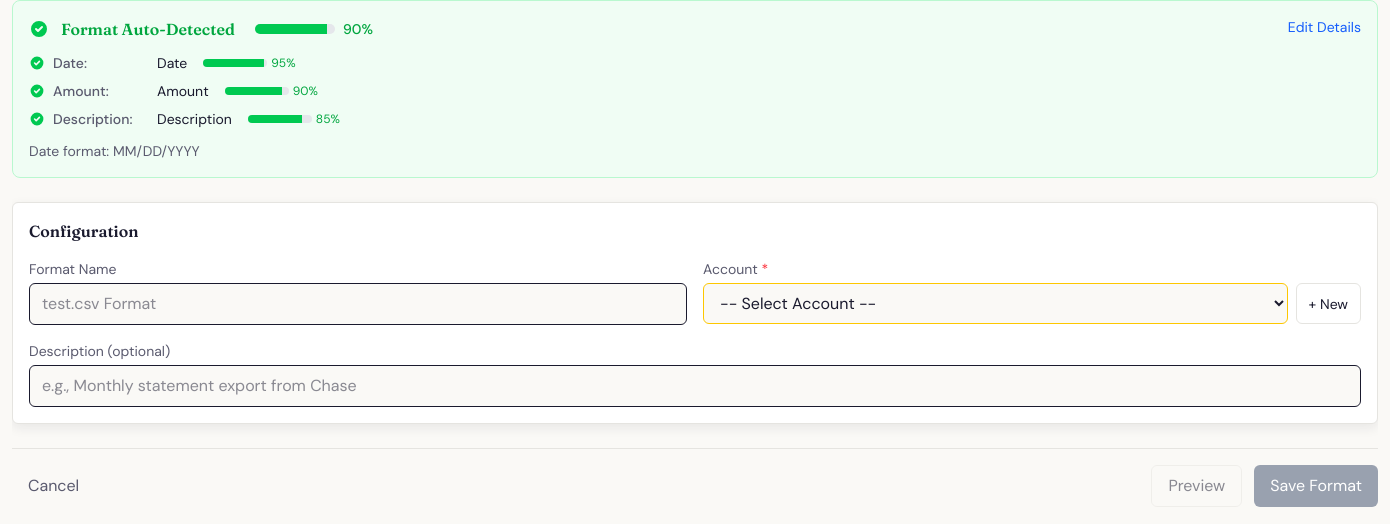
Scenario: CustomFormatMapper › shows new account form when + New clicked
The image size is (1390, 524).
# The button text might be rendered with whitespace
Click the button "+ New".
click(1328, 304)  # box [1296,283,1361,324]
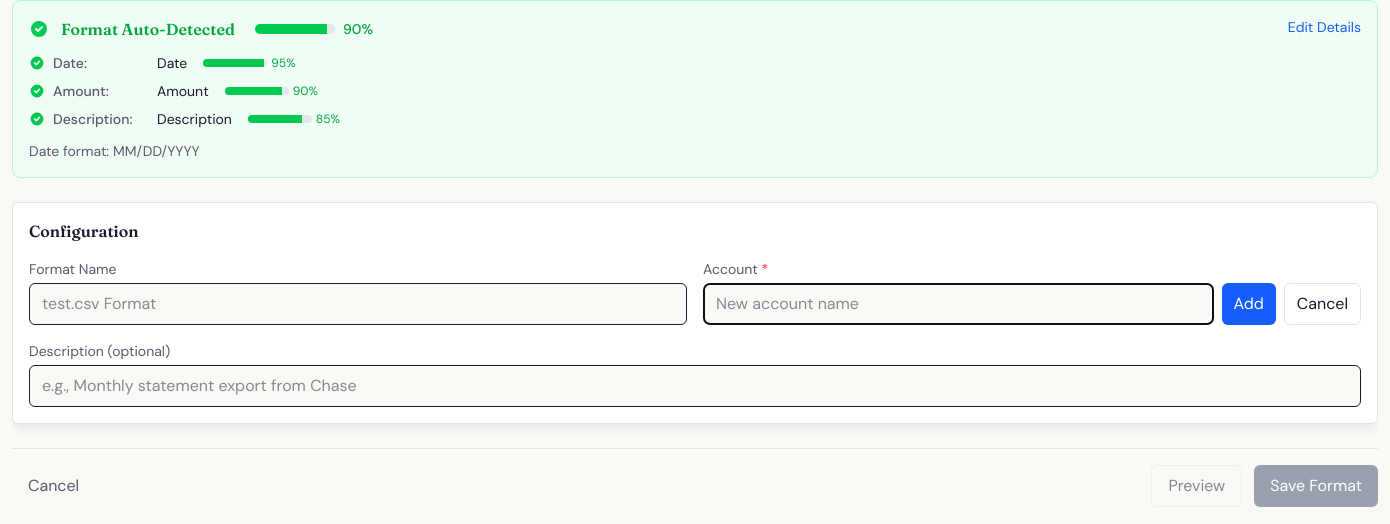
Expected: the field with placeholder "New account name" is shown, [703,283,1214,325]
Expected: the button "Add" is shown, [1222,283,1276,325]
